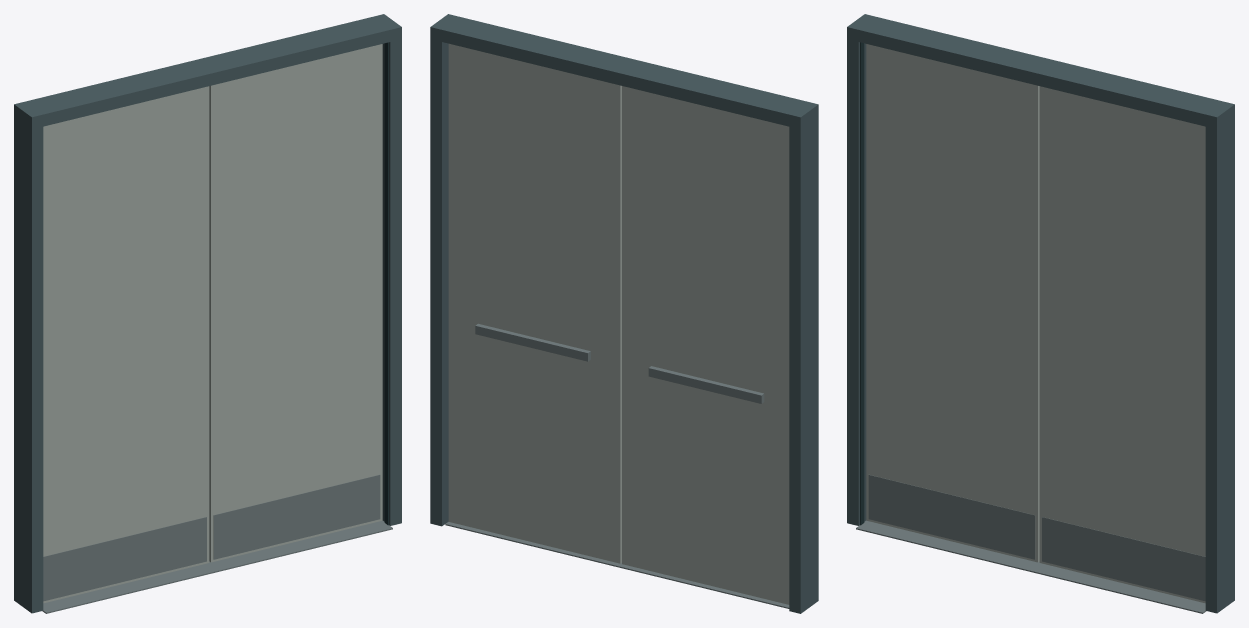
3 renders of one model, left to right at view 1: azimuth 30°, elevation 25°; view 2: azimuth 150°, elevation 25°; view 3: azimuth 330°, elevation 25°, orthographic.
Parts seen in each view (by area): view 1: FD-A_Leaf_02, FD-A_Leaf_01, FD-A_FrameL, FD-A_Head, FD-A_FrameR, FD-A_Kick_02, FD-A_Kick_01, FD-A_Threshold, FD-A_SealR; view 2: FD-A_Leaf_02, FD-A_Leaf_01, FD-A_FrameL, FD-A_Head, FD-A_FrameR, FD-A_Threshold, FD-A_Release_01, FD-A_Release_02; view 3: FD-A_Leaf_01, FD-A_Leaf_02, FD-A_FrameR, FD-A_Head, FD-A_FrameL, FD-A_Kick_01, FD-A_Kick_02, FD-A_Threshold, FD-A_SealL.
Boxes of the visible parts, <box> form: FD-A_Leaf_02: <box>209,44,382,562</box>; FD-A_Leaf_01: <box>43,86,209,603</box>; FD-A_FrameL: <box>14,116,43,613</box>; FD-A_Head: <box>14,14,401,129</box>; FD-A_FrameR: <box>382,39,401,525</box>; FD-A_Kick_02: <box>213,474,380,559</box>; FD-A_Kick_01: <box>43,517,206,601</box>; FD-A_Threshold: <box>42,520,392,613</box>; FD-A_SealR: <box>384,42,388,525</box>; FD-A_Leaf_02: <box>448,43,621,563</box>; FD-A_Leaf_01: <box>622,86,789,604</box>; FD-A_FrameL: <box>789,116,818,613</box>; FD-A_Head: <box>430,14,818,129</box>; FD-A_FrameR: <box>430,39,448,526</box>; FD-A_Threshold: <box>445,522,789,608</box>; FD-A_Release_01: <box>648,366,764,403</box>; FD-A_Release_02: <box>475,323,590,361</box>; FD-A_Leaf_01: <box>866,44,1039,562</box>; FD-A_Leaf_02: <box>1039,86,1205,603</box>; FD-A_FrameR: <box>1205,116,1234,613</box>; FD-A_Head: <box>847,14,1234,129</box>; FD-A_FrameL: <box>847,39,866,525</box>; FD-A_Kick_01: <box>868,474,1035,559</box>; FD-A_Kick_02: <box>1042,517,1205,601</box>; FD-A_Threshold: <box>856,520,1206,613</box>; FD-A_SealL: <box>860,42,864,525</box>.
Bounding box in the file's own units: 1.92 × 2.47 × 0.185.
